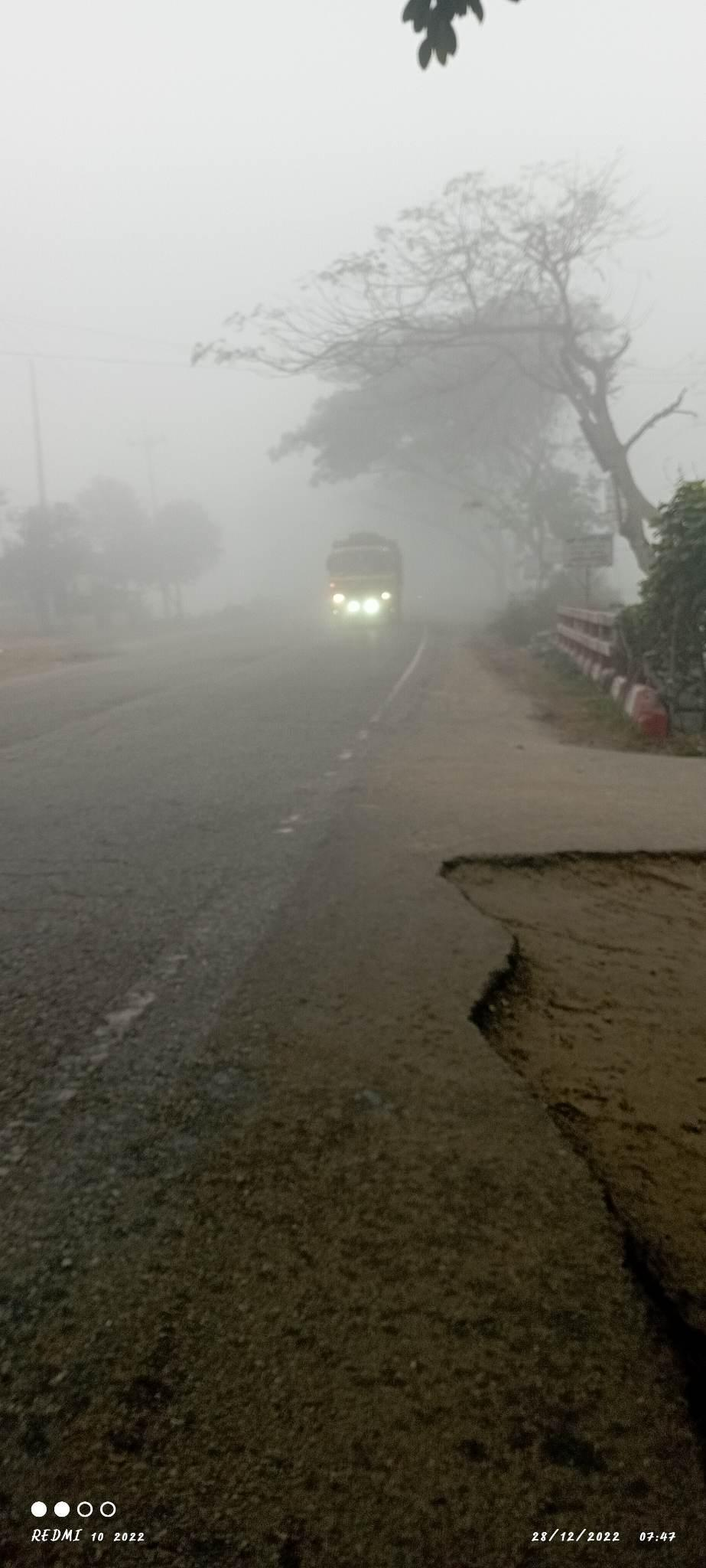Truck: (301, 494, 421, 670)
